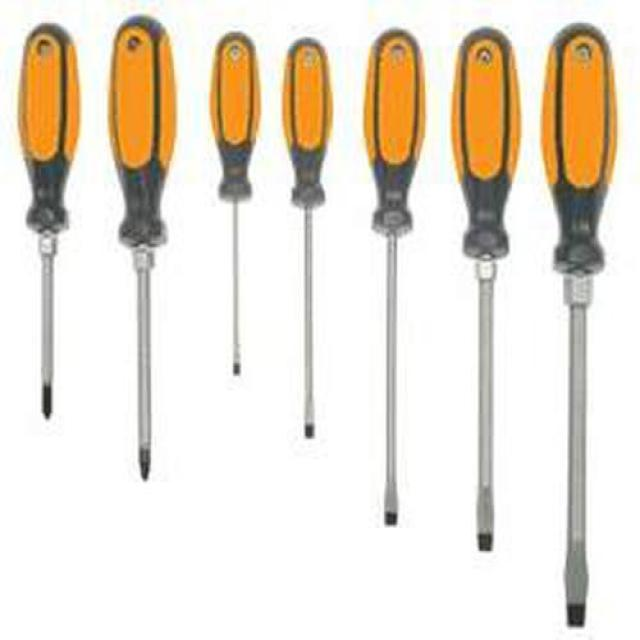screw driver: (533, 5, 640, 640), (350, 7, 440, 551), (442, 16, 530, 569), (94, 8, 182, 494), (12, 13, 100, 440), (273, 32, 347, 450), (200, 12, 266, 397)
